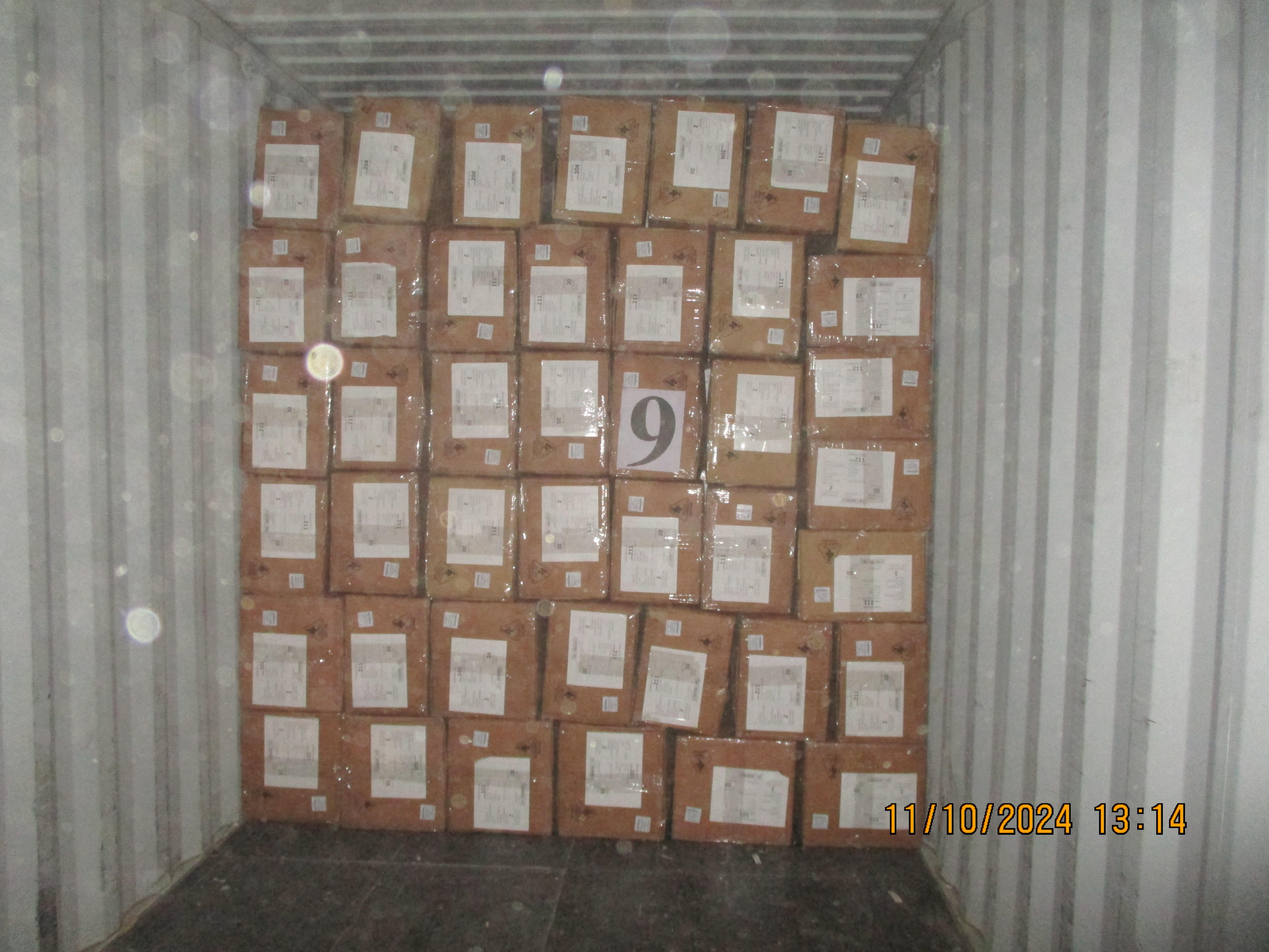carton: (428, 600, 546, 719), (555, 722, 673, 840), (339, 96, 447, 224), (836, 119, 938, 254), (741, 101, 844, 234), (672, 736, 796, 845), (800, 742, 927, 848), (646, 96, 746, 229), (550, 95, 652, 225), (632, 605, 733, 734), (730, 616, 834, 740), (338, 714, 447, 831), (704, 357, 802, 487), (707, 229, 805, 359), (611, 226, 710, 354), (446, 718, 555, 834), (700, 485, 797, 615), (237, 595, 344, 711), (328, 471, 428, 595), (541, 601, 640, 726), (795, 529, 928, 622), (609, 353, 705, 481), (329, 347, 428, 471), (803, 438, 934, 531), (805, 254, 934, 348), (329, 223, 426, 348), (518, 225, 613, 351), (423, 475, 518, 601), (238, 227, 333, 353), (609, 479, 703, 606), (804, 346, 932, 439), (450, 102, 545, 227), (517, 351, 611, 476), (833, 622, 930, 743), (516, 477, 611, 600), (251, 106, 345, 230), (239, 710, 341, 824), (425, 227, 518, 352), (426, 352, 518, 476), (240, 352, 331, 476), (239, 474, 329, 595), (342, 595, 429, 715)
